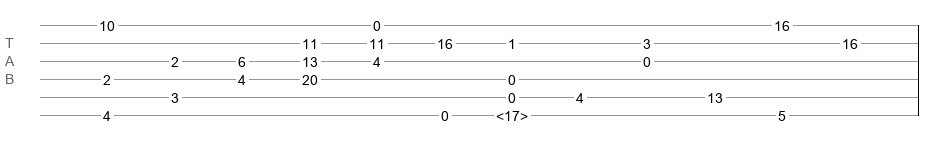0: (373, 18, 381, 28), (441, 108, 449, 118), (508, 72, 516, 82), (508, 90, 516, 100), (643, 54, 651, 64)
1: (508, 36, 516, 46)
10: (99, 18, 115, 28)
11: (302, 36, 318, 46), (369, 36, 385, 46)
13: (302, 54, 318, 64), (707, 90, 723, 100)
16: (437, 36, 453, 46), (774, 18, 790, 28), (842, 36, 858, 46)
2: (103, 72, 111, 82), (171, 54, 179, 64)
20: (302, 72, 318, 82)
3: (171, 90, 179, 100), (643, 36, 651, 46)
4: (103, 108, 111, 118), (238, 72, 246, 82), (373, 54, 381, 64), (576, 90, 584, 100)
5: (778, 108, 786, 118)
6: (238, 54, 246, 64)
harmonic: (496, 108, 528, 118)
